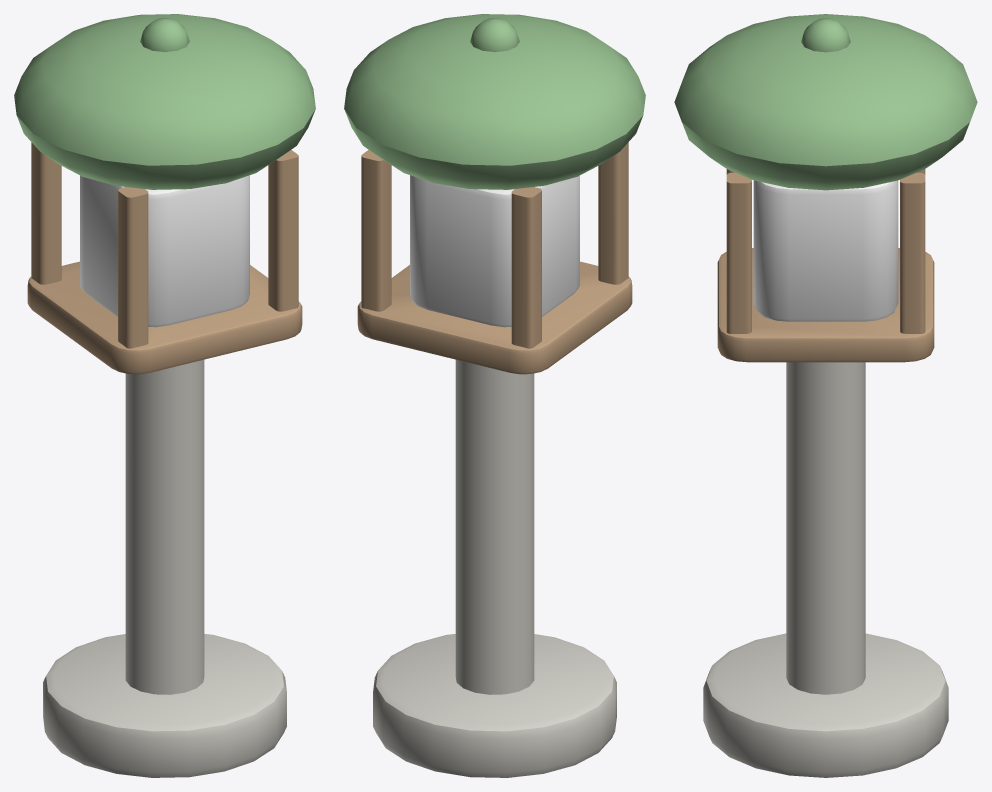
Rendered from SM_IncLantern.fbx.
The picture shows the model from 3 angles, left to right: view 1: azimuth 30°, elevation 25°; view 2: azimuth 150°, elevation 25°; view 3: azimuth 270°, elevation 25°; orthographic projection.
Parts seen in each view (by area): view 1: IncLantern, LampGlass; view 2: IncLantern, LampGlass; view 3: IncLantern, LampGlass.
Boxes of the visible parts, left/top/right/bottom form: IncLantern: left=14, top=14, right=315, bottom=777; LampGlass: left=80, top=175, right=249, bottom=327; IncLantern: left=344, top=14, right=645, bottom=777; LampGlass: left=410, top=175, right=579, bottom=327; IncLantern: left=674, top=14, right=977, bottom=777; LampGlass: left=753, top=180, right=898, bottom=321.
Size of the model in its own units: 0.42 by 1.09 by 0.42.
